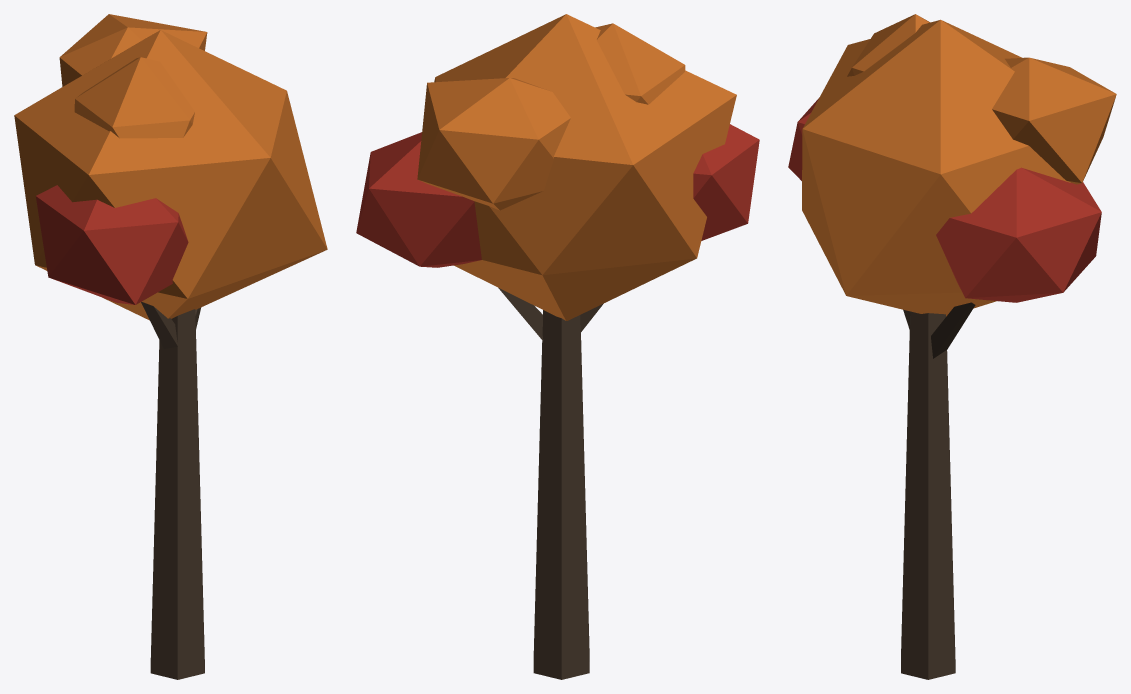
File: tree_autumn_lod1.glb
3 views of the same model, side by side, from view 1: azimuth 30°, elevation 25°; view 2: azimuth 150°, elevation 25°; view 3: azimuth 270°, elevation 25° (orthographic). The views are drawn at different scales.
Parts seen in each view (by area): view 1: tree_autumn_lod1; view 2: tree_autumn_lod1; view 3: tree_autumn_lod1.
Boxes of the visible parts, box(x1,y1,x2,y2) form: tree_autumn_lod1: box(14, 14, 327, 679); tree_autumn_lod1: box(356, 14, 759, 679); tree_autumn_lod1: box(788, 14, 1116, 679).
Size of what is drawn, in the model's own units: 2.72 by 5.61 by 2.6.
2 materials, 2 textured.
